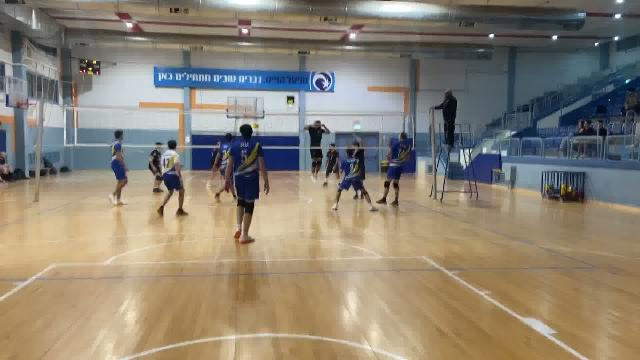ball: (253, 121, 261, 130)
